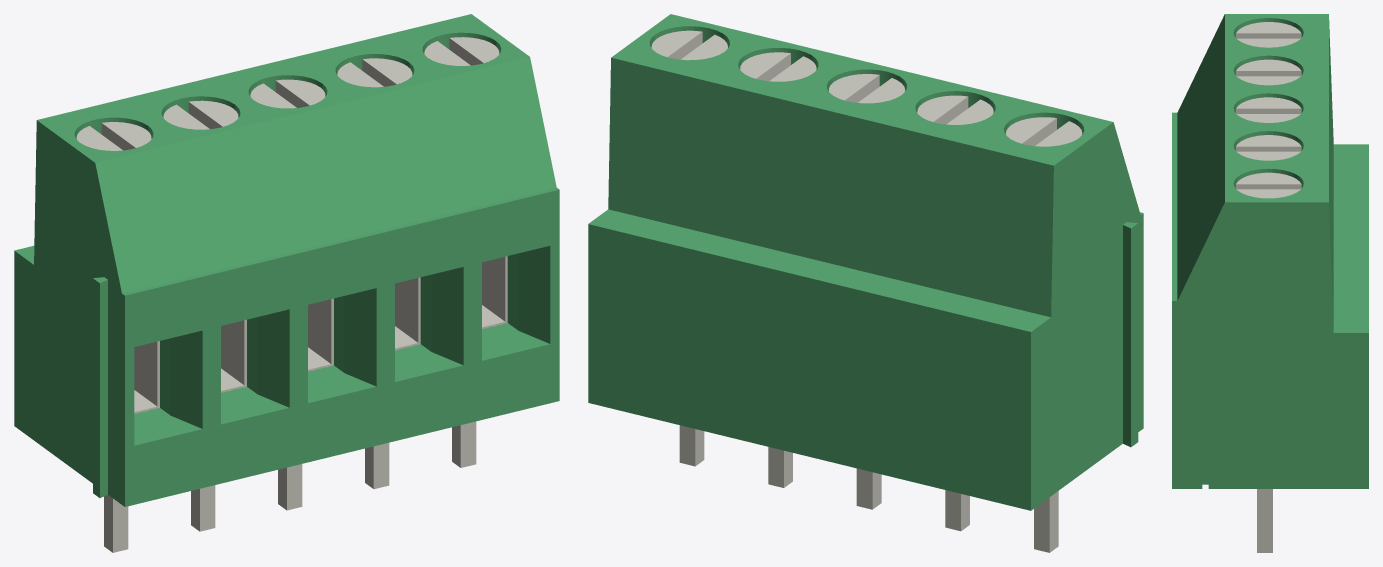
The model's file is kc-terminalblock_phoenix_mkds-3-5-5.08_1x05_p5.08mm_horizontal.glb.
The picture shows the model from 3 angles, left to right: view 1: azimuth 30°, elevation 25°; view 2: azimuth 150°, elevation 25°; view 3: azimuth 270°, elevation 25°; orthographic projection. The views are drawn at different scales.
Visible parts, largest first — view 1: 0.08333333333333333_0.4166666666666667_0.16666666666666666_0, 0.6666666666666666_0.6666666666666666_0.5833333333333334_0.8; view 2: 0.08333333333333333_0.4166666666666667_0.16666666666666666_0, 0.6666666666666666_0.6666666666666666_0.5833333333333334_0.8; view 3: 0.08333333333333333_0.4166666666666667_0.16666666666666666_0, 0.6666666666666666_0.6666666666666666_0.5833333333333334_0.8.
Part boxes in pixels (box(x1,y1,x2,y2)): 0.08333333333333333_0.4166666666666667_0.16666666666666666_0: box(14, 14, 559, 506); 0.6666666666666666_0.6666666666666666_0.5833333333333334_0.8: box(76, 37, 507, 552); 0.08333333333333333_0.4166666666666667_0.16666666666666666_0: box(588, 14, 1143, 510); 0.6666666666666666_0.6666666666666666_0.5833333333333334_0.8: box(651, 30, 1082, 552); 0.08333333333333333_0.4166666666666667_0.16666666666666666_0: box(1172, 14, 1368, 488); 0.6666666666666666_0.6666666666666666_0.5833333333333334_0.8: box(1236, 22, 1301, 552).
Size of the model in its own units: 2.6 by 2.3 by 1.12.
